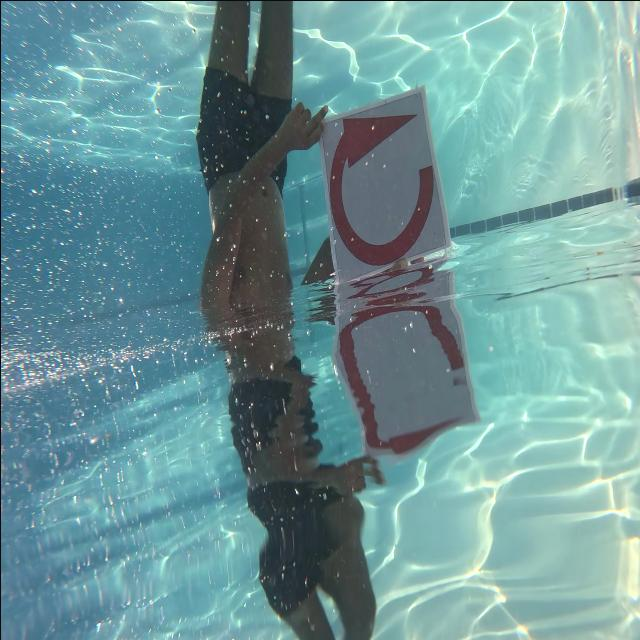red_side: (322, 98, 436, 272)
